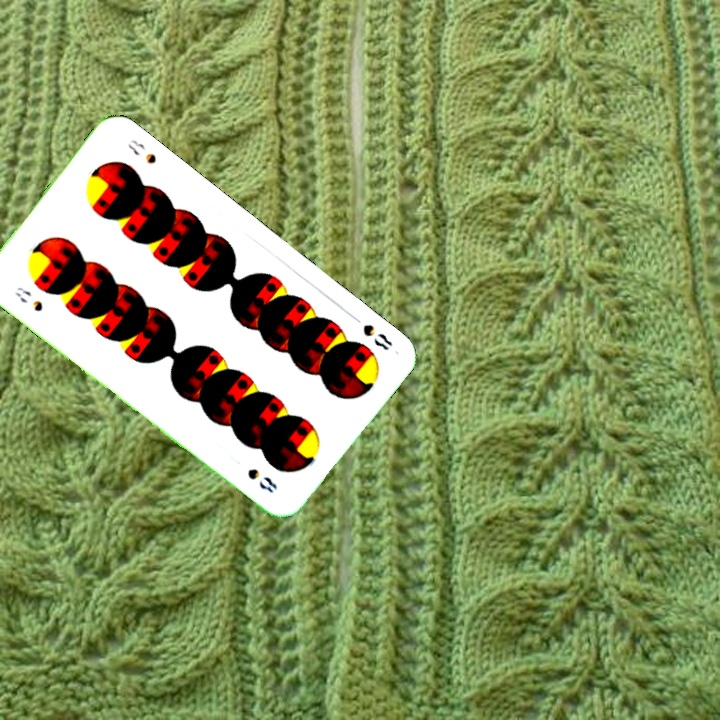S8: (347, 310, 395, 353), (11, 282, 46, 315)
